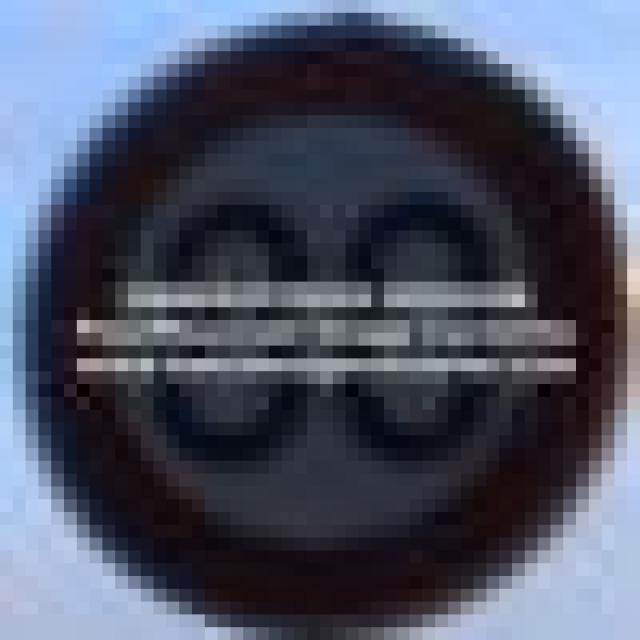speed_limit_50: (26, 13, 627, 589)
